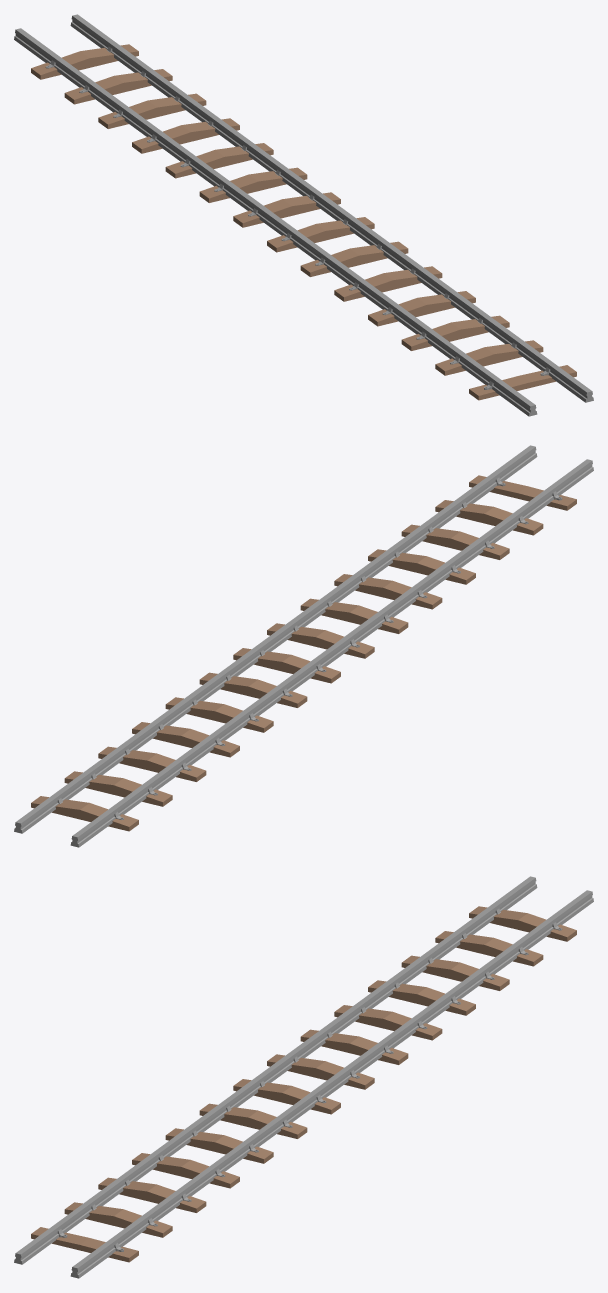
Rendered from track.fbx.
3 views of the same model, one above another, from view 1: azimuth 30°, elevation 25°; view 2: azimuth 150°, elevation 25°; view 3: azimuth 330°, elevation 25° (orthographic).
Parts seen in each view (by area): view 1: 立方体.003; view 2: 立方体.003; view 3: 立方体.003.
Boxes of the visible parts, <box> form: 立方体.003: <box>14,14,593,416</box>; 立方体.003: <box>14,445,593,847</box>; 立方体.003: <box>14,876,593,1278</box>.
Bounding box in the file's own units: 158 × 22.08 × 1437.
